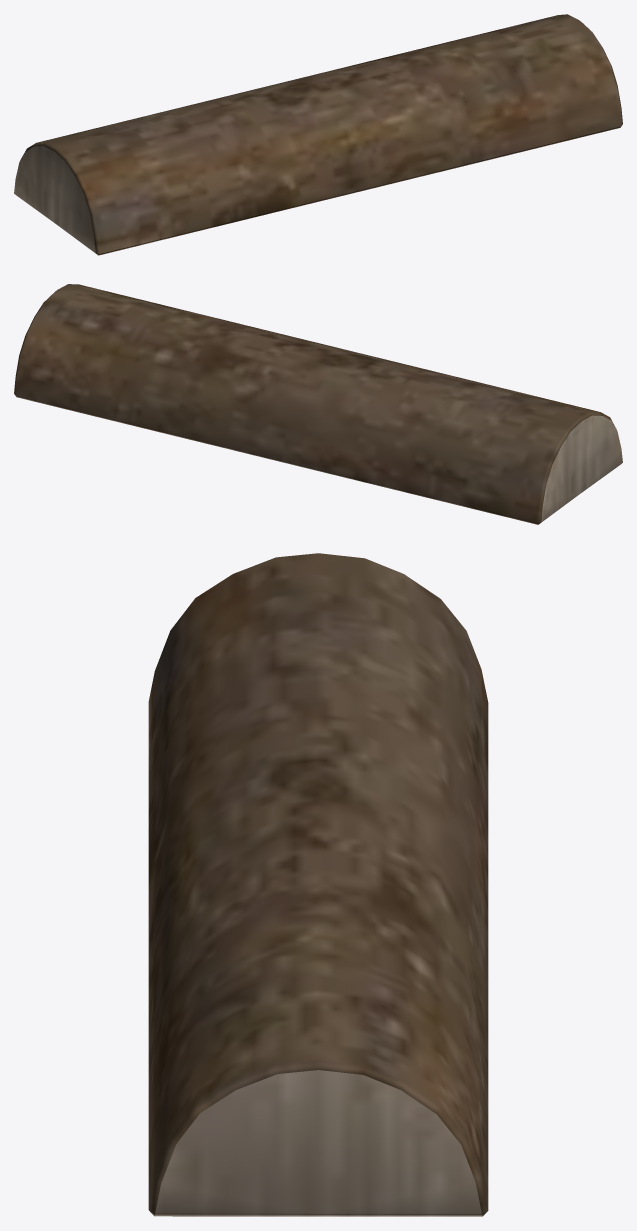
Rendered from FirewoodSingle.glb.
The picture shows the model from 3 angles, top to bottom: view 1: azimuth 30°, elevation 25°; view 2: azimuth 150°, elevation 25°; view 3: azimuth 270°, elevation 25°; orthographic projection. The views are drawn at different scales.
Visible parts, largest first — view 1: FirewoodSingle; view 2: FirewoodSingle; view 3: FirewoodSingle.
Boxes of the visible parts, box(x1,y1,x2,y2) form: FirewoodSingle: box(14, 14, 622, 255); FirewoodSingle: box(14, 284, 622, 524); FirewoodSingle: box(148, 553, 488, 1216).
Bounding box in the file's own units: 0.6101 × 0.0862 × 0.1702.
1 material, 1 textured.
